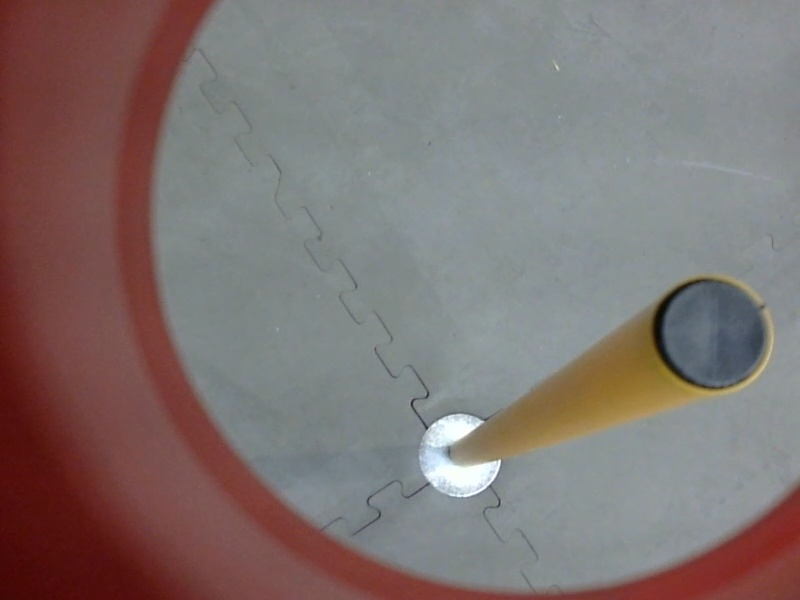tip: (643, 268, 781, 403)
